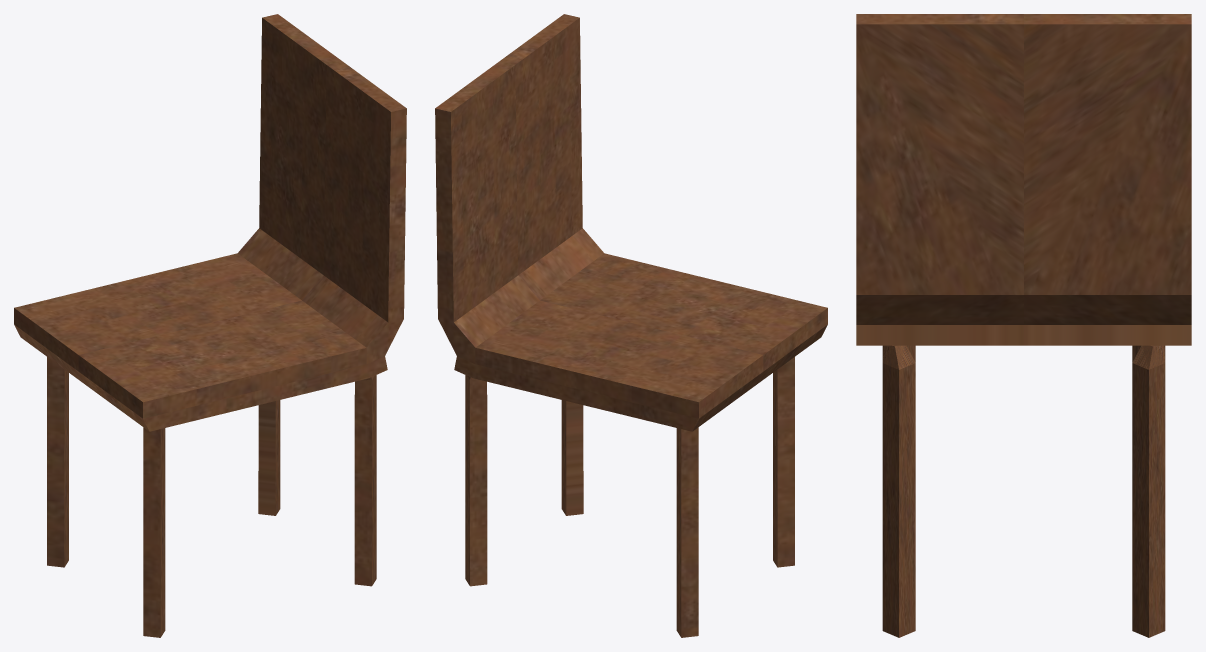
Rendered from chair.obj.
3 views of the same model, side by side, from view 1: azimuth 30°, elevation 25°; view 2: azimuth 150°, elevation 25°; view 3: azimuth 270°, elevation 25° (orthographic). The views are drawn at different scales.
Parts seen in each view (by area): view 1: Cube; view 2: Cube; view 3: Cube.
Boxes of the visible parts, x1,y1,x2,y2 form: Cube: [14, 14, 406, 637]; Cube: [435, 14, 827, 637]; Cube: [856, 14, 1191, 637].
Bounding box in the file's own units: 2.36 × 4.1 × 2.
